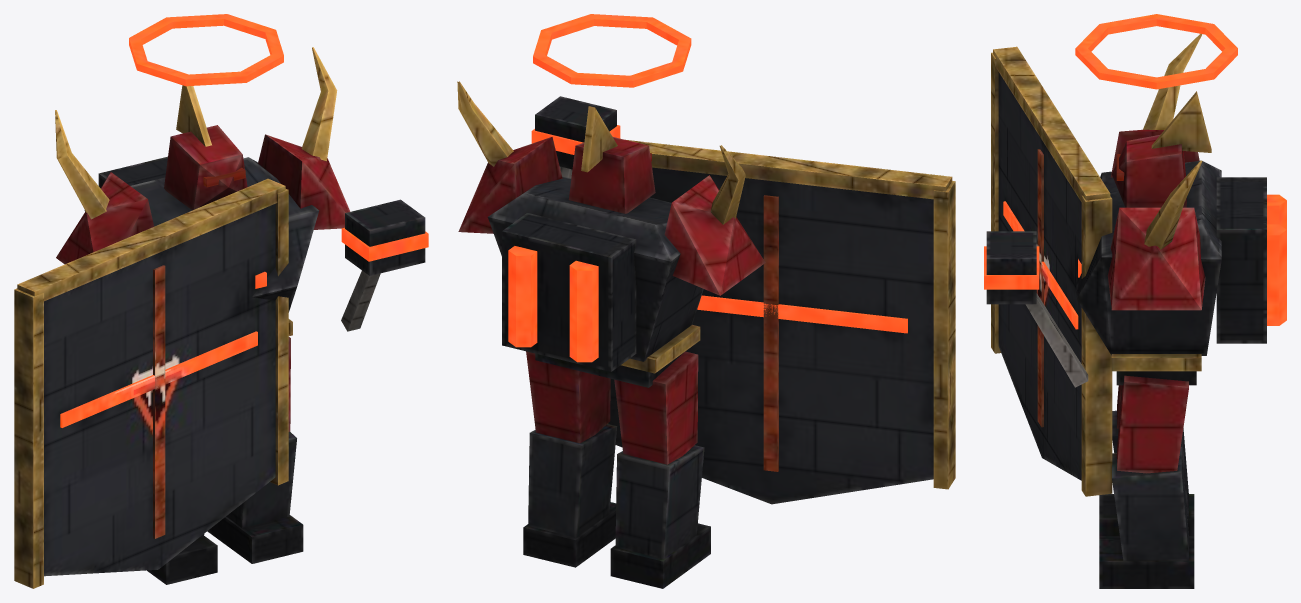
File: u_sentinel4_e.glb
3 renders of one model, left to right at view 1: azimuth 30°, elevation 25°; view 2: azimuth 150°, elevation 25°; view 3: azimuth 270°, elevation 25°, orthographic.
Parts seen in each view (by area): view 1: u_sentinel4_e; view 2: u_sentinel4_e; view 3: u_sentinel4_e.
Boxes of the visible parts, x1,y1,x2,y2 form: u_sentinel4_e: (14,14,428,588); u_sentinel4_e: (457,14,955,588); u_sentinel4_e: (984,14,1286,588).
Bounding box in the file's own units: 2.56 × 3.05 × 1.65.
1 material, 1 textured.
